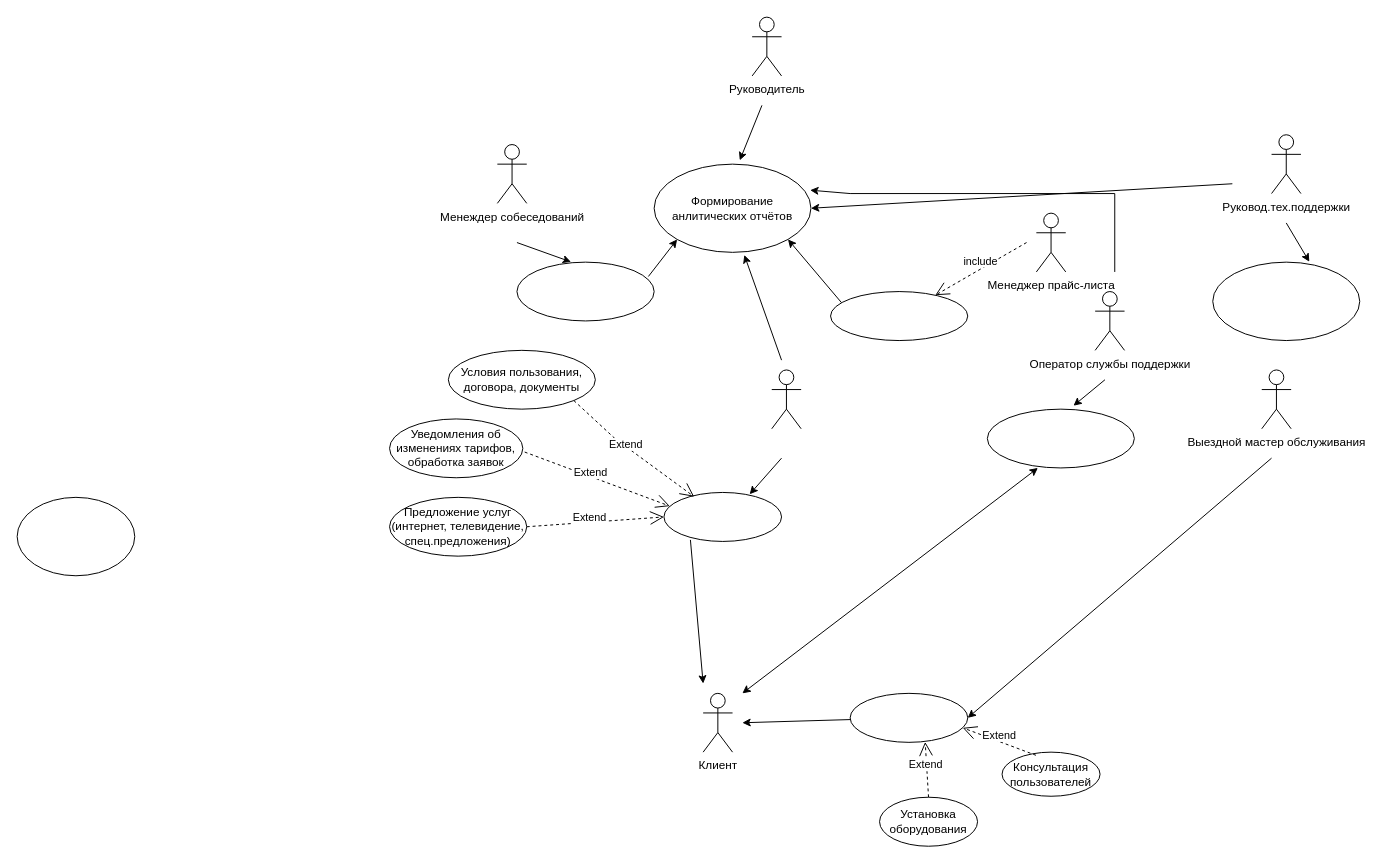
Some shapes in this 1383 by 863 pixel diagram are drawn without their labels. The centre of each missing label's shape, as x and y in pixels:
"Выезд на дом" belongs at point 908,717.
"Оператор call-центра" belongs at point 786,399.
"Планирование, контроль исполнения, анализ, выполнения работ" belongs at point 1286,301.
"Поддержка чата с клиентами" belongs at point 1060,438.
"Проведение собеседований, анализ" belongs at point 585,291.
"Связь с клиентами" belongs at point 722,516.
"Составление прайс-листа" belongs at point 899,316.
